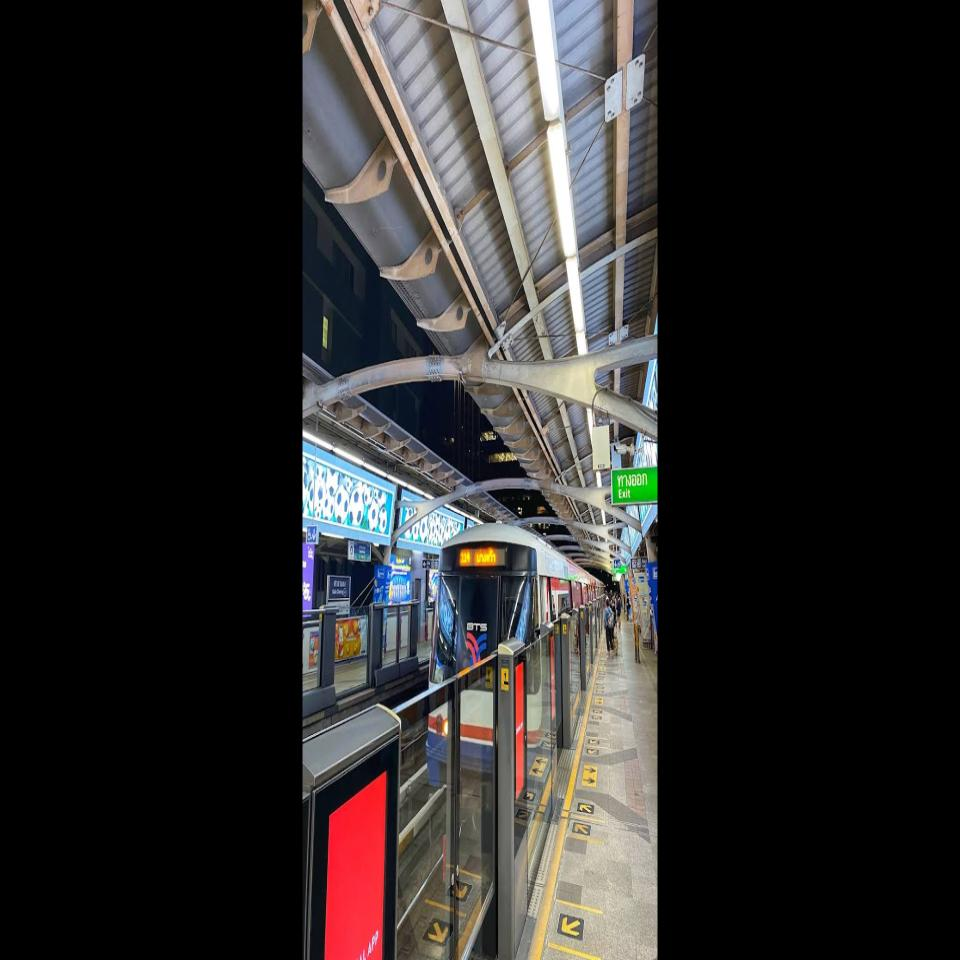signage: (327, 574, 351, 601)
